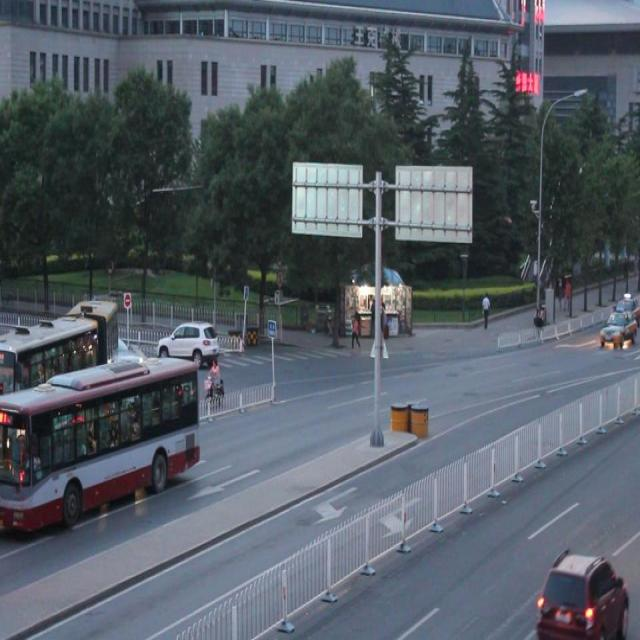car: (534, 547, 628, 640), (162, 309, 223, 359), (121, 332, 167, 387)
van: (1, 358, 202, 537), (1, 300, 117, 410)
